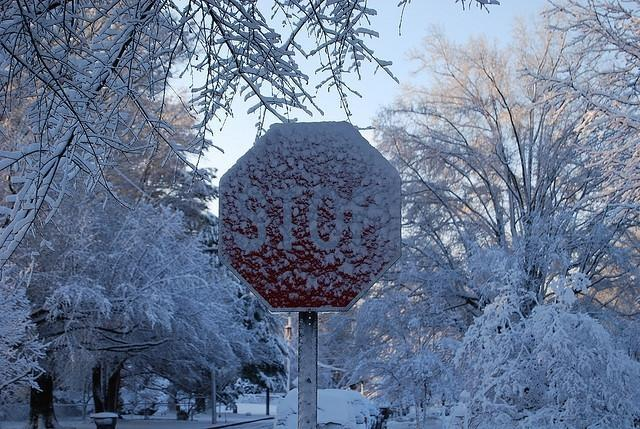car: (272, 388, 387, 429)
